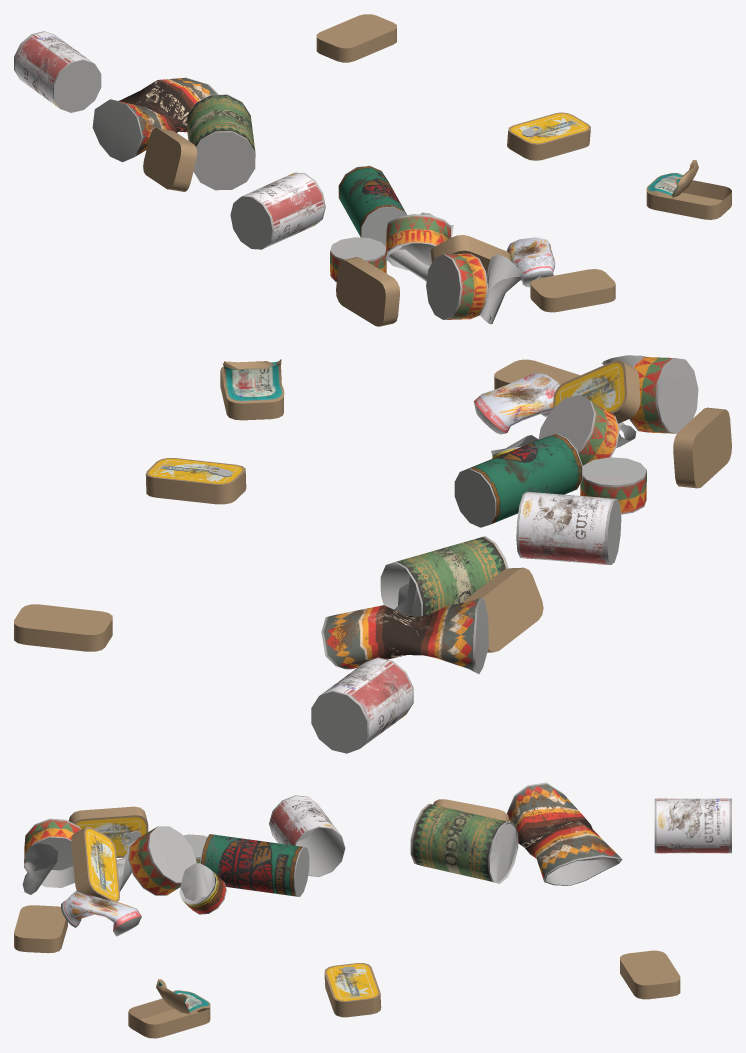
Rendered from SM_TrashSet_01_C.fbx.
The picture shows the model from 3 angles, top to bottom: view 1: azimuth 30°, elevation 25°; view 2: azimuth 150°, elevation 25°; view 3: azimuth 270°, elevation 25°; orthographic projection. The views are drawn at different scales.
Visible parts, largest first — view 1: SM_TrashSet_01_C; view 2: SM_TrashSet_01_C; view 3: SM_TrashSet_01_C.
Part boxes in pixels (bbox=[...]): SM_TrashSet_01_C: bbox=[14, 14, 731, 326]; SM_TrashSet_01_C: bbox=[14, 355, 731, 753]; SM_TrashSet_01_C: bbox=[14, 782, 731, 1038].
Size of the model in its own units: 82.84 by 124 by 13.48.
Materials: 1 (1 with a texture image).
